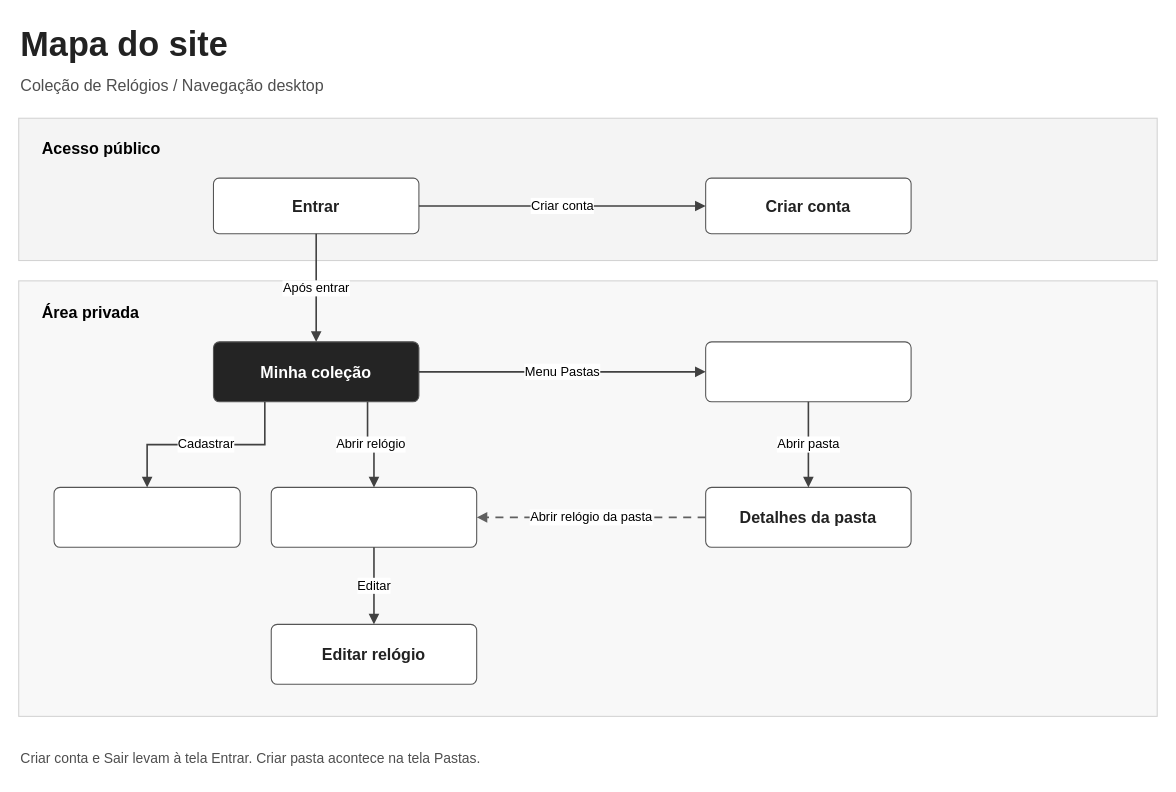
This 1176x792 diagram has some shape labels left out. Here are the shapes that lost their labels. From the top down, the centre of each, then its label:
pixel 808 371: Pastas
pixel 146 516: Novo relógio
pixel 373 516: Detalhes do relógio
